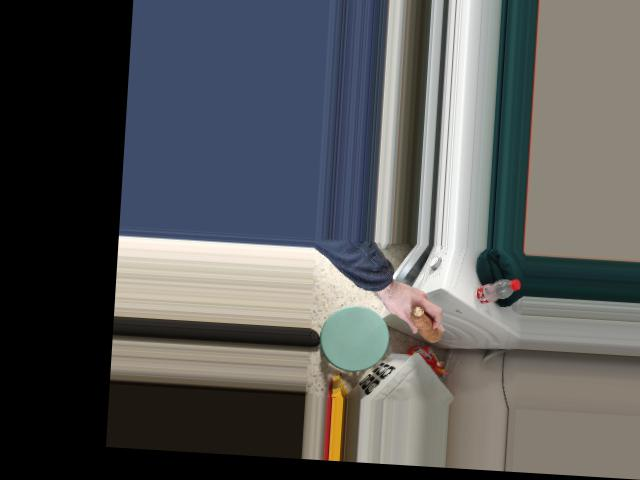sweet_potato: (404, 301, 446, 341)
